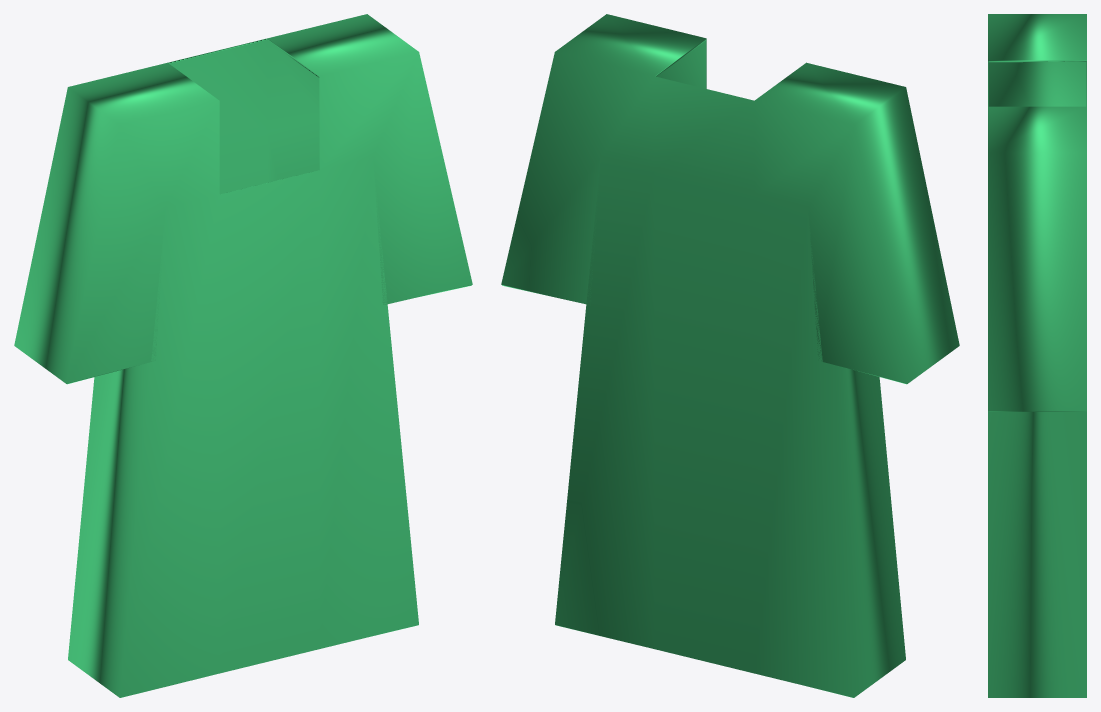
The model's file is tshirt.glb.
3 views of the same model, side by side, from view 1: azimuth 30°, elevation 25°; view 2: azimuth 150°, elevation 25°; view 3: azimuth 270°, elevation 25° (orthographic). The views are drawn at different scales.
Visible parts, largest first — view 1: Cube.001; view 2: Cube.001; view 3: Cube.001.
Part boxes in pixels (x1,y1,x2,y2): Cube.001: (14, 14, 472, 697); Cube.001: (501, 14, 959, 697); Cube.001: (988, 14, 1086, 697).
Bounding box in the file's own units: 2.72 × 3.66 × 0.6.
